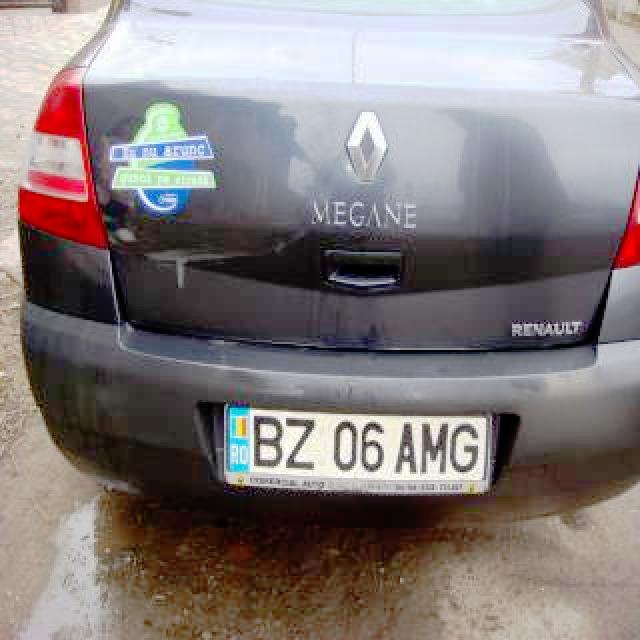license_plate: (225, 406, 491, 491)
